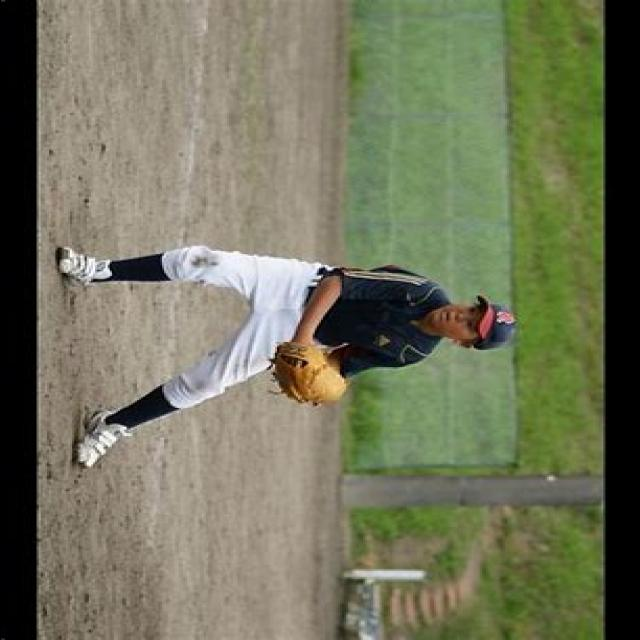glove: (263, 340, 352, 410)
